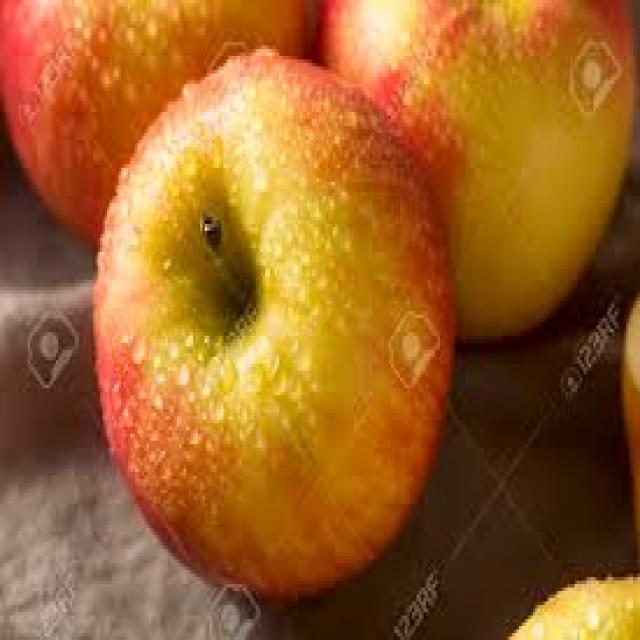apple: (91, 44, 458, 606)
